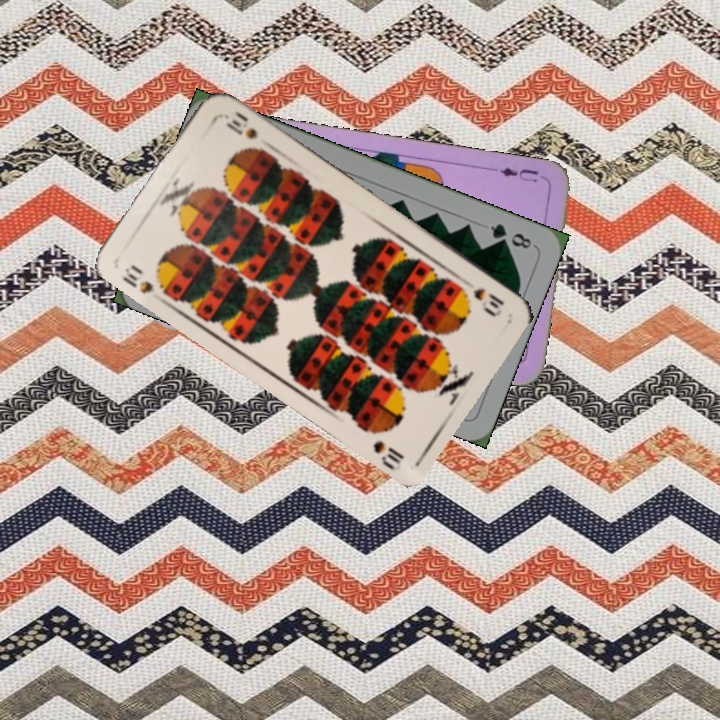EU: (495, 163, 541, 185)
G8: (486, 219, 534, 252)
S10: (458, 274, 507, 317), (118, 260, 157, 297)
